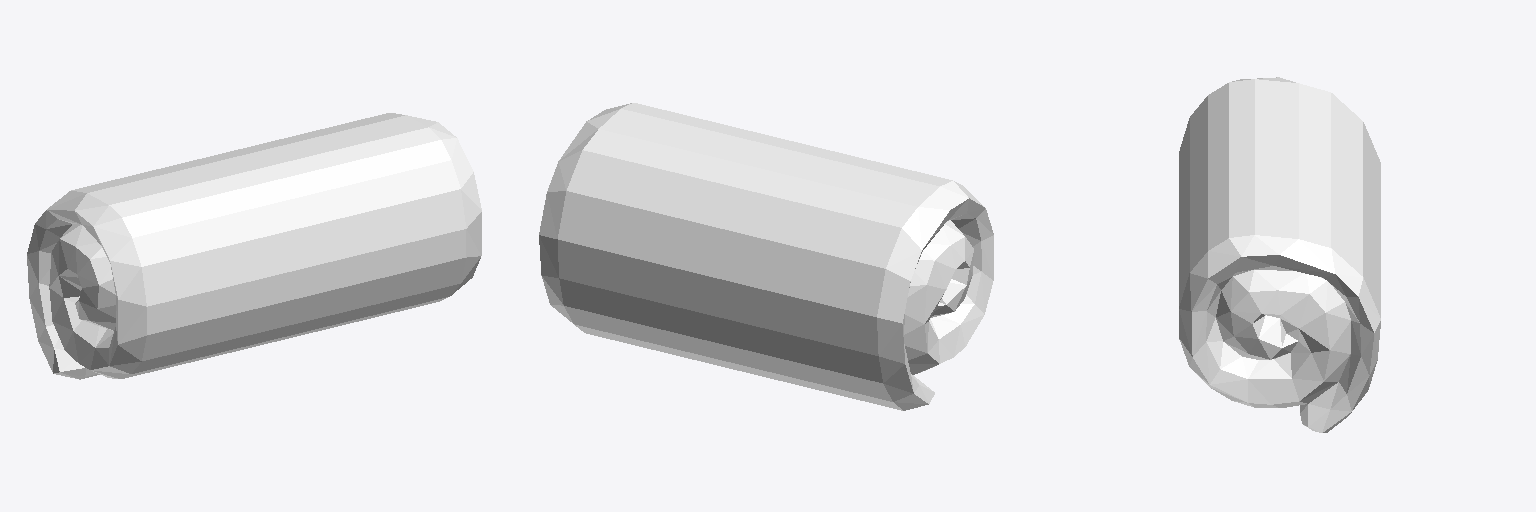
The model's file is bedroll.obj.
3 renders of one model, left to right at view 1: azimuth 30°, elevation 25°; view 2: azimuth 150°, elevation 25°; view 3: azimuth 270°, elevation 25°, orthographic.
Parts seen in each view (by area): view 1: Bedroll; view 2: Bedroll; view 3: Bedroll.
Boxes of the visible parts, x1,y1,x2,y2 form: Bedroll: [27, 113, 481, 379]; Bedroll: [539, 103, 993, 410]; Bedroll: [1179, 77, 1380, 432].
Bounding box in the file's own units: 97.26 × 48.96 × 45.39.